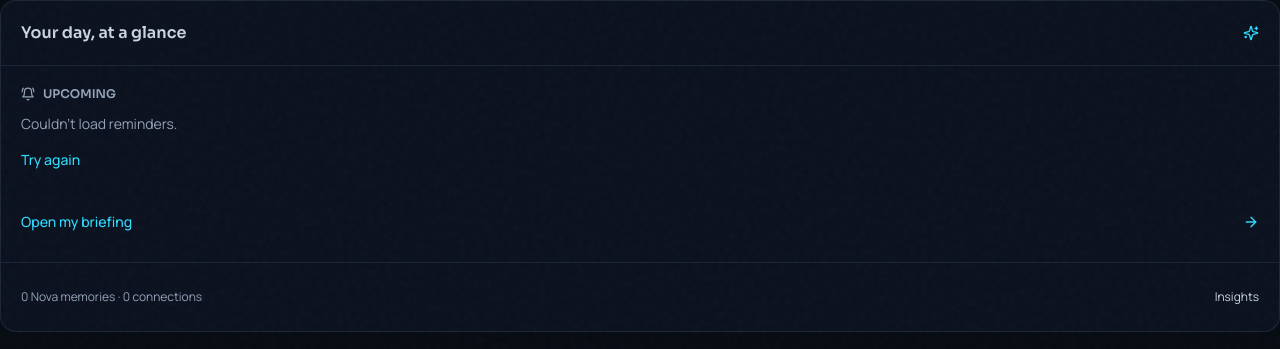
Test: Dashboard upcoming reminders › shows a retryable error instead of claiming the schedule is empty
Expected: the text "Couldn’t load reminders." is shown, [21,114,177,133]
Step 1. Click the button "Try again" → point(51, 160), box [21,142,80,178]
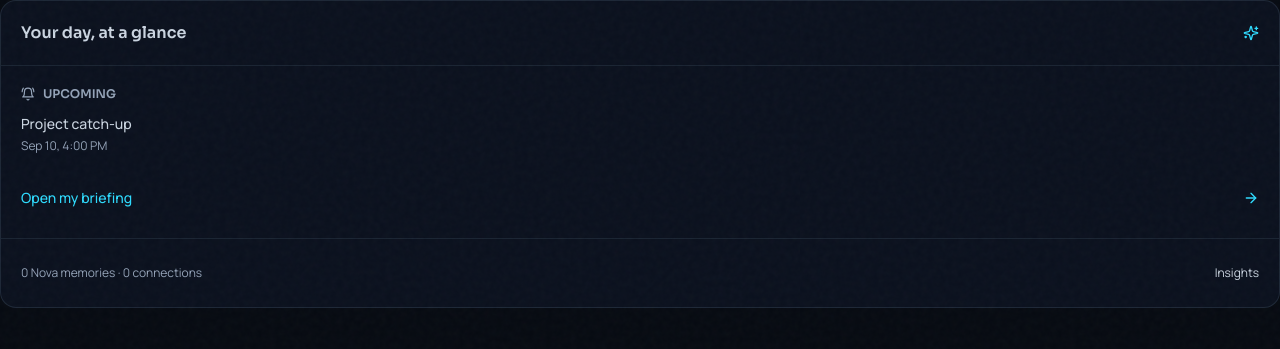
Expected: the text "Project catch-up" is shown, [21,114,132,133]
